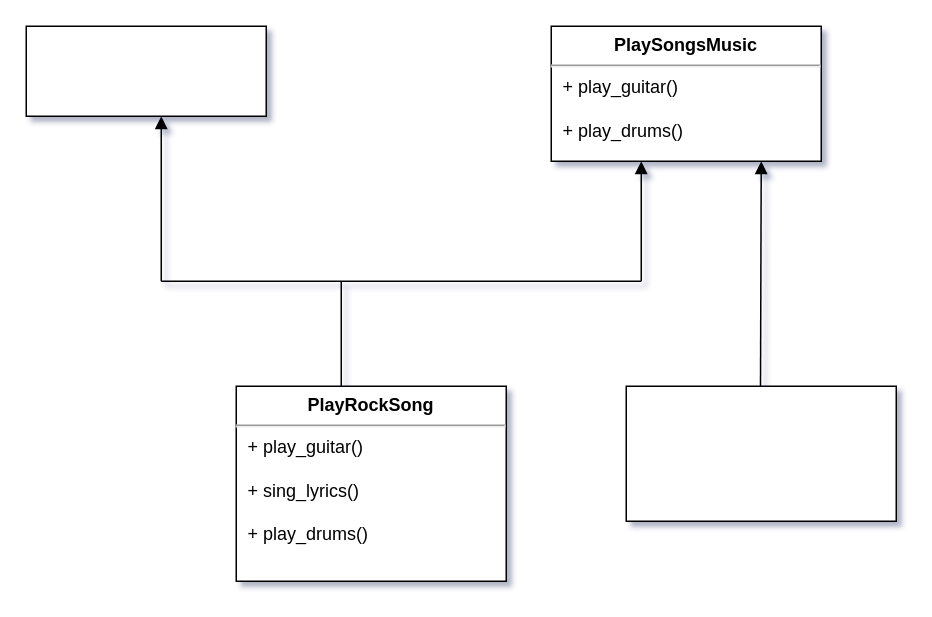
This 932x617 diagram has some shape labels left out. The box of each missing label's shape, as (x1, y1, x2, y2) in pixels:
PlayInstrumentalSong + play_drums() + play_guitar(): (625, 385, 896, 521)
PlaySongsLyrics + sing_lyrics(): (25, 25, 266, 116)
